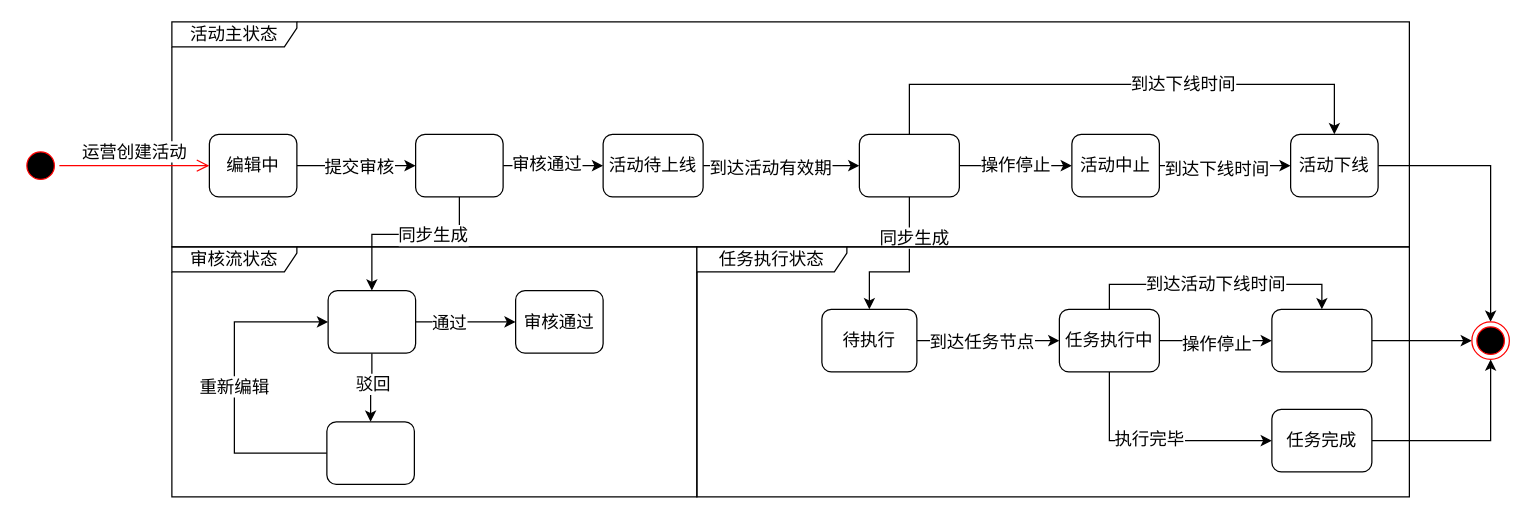
This 1531x519 diagram has some shape labels left out. Here are the shapes that lost their labels. From the top down, the centre of each, then its label:
At point (458, 165): "审核中".
At point (908, 165): "活动进行中".
At point (371, 321): "待审核".
At point (1321, 340): "任务中止".
At point (370, 452): "审核驳回".
